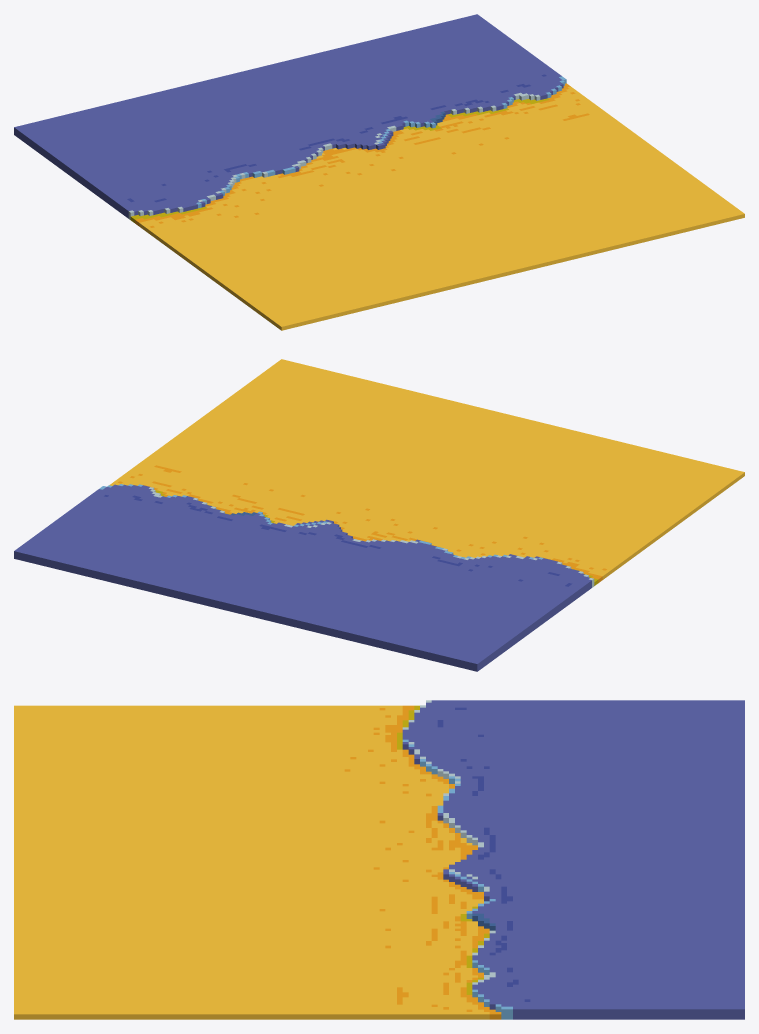
File: praia.obj
The picture shows the model from 3 angles, top to bottom: view 1: azimuth 30°, elevation 25°; view 2: azimuth 150°, elevation 25°; view 3: azimuth 270°, elevation 25°; orthographic projection. The views are drawn at different scales.
Size of the model in its own units: 126 by 2 by 126.
Materials: 1 (1 with a texture image).
